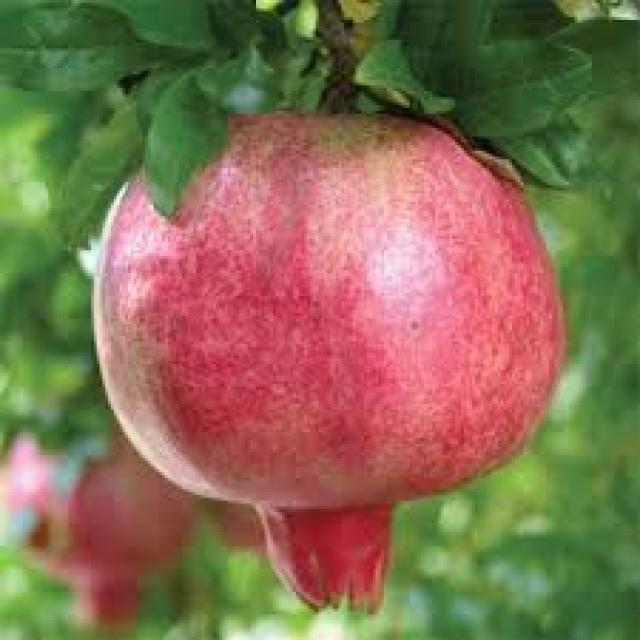organic waste: (88, 91, 566, 609), (60, 449, 190, 626)
